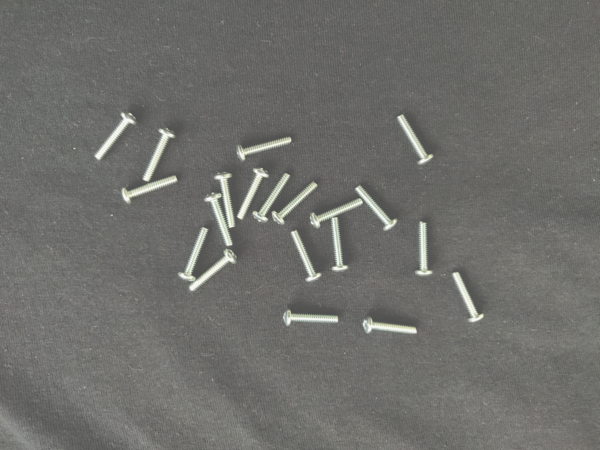longscrew: (353, 182, 399, 229), (396, 115, 438, 166), (451, 269, 489, 325), (249, 173, 289, 223), (275, 179, 317, 226), (190, 251, 237, 293), (290, 226, 324, 284), (312, 195, 364, 228), (176, 228, 208, 281), (237, 136, 293, 164), (203, 195, 233, 246), (236, 170, 267, 219), (123, 179, 176, 202), (215, 170, 235, 228), (281, 309, 339, 327), (364, 318, 422, 335), (330, 216, 347, 272), (417, 222, 431, 279)
